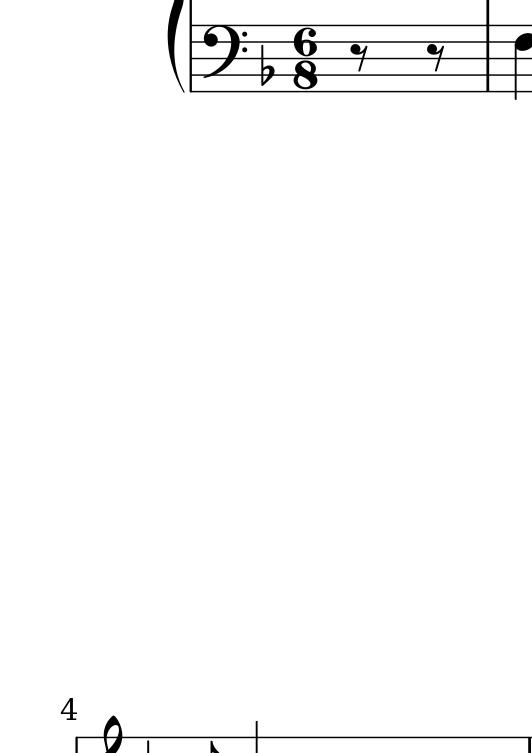6: (291, 24, 319, 57)
8: (292, 57, 319, 89)
Fclef: (198, 23, 247, 93)
Flat: (257, 43, 275, 86)
Rests8: (425, 42, 447, 72), (349, 43, 370, 73)
Single_barline: (481, 27, 495, 91)
TimeSig: (293, 26, 321, 92)
